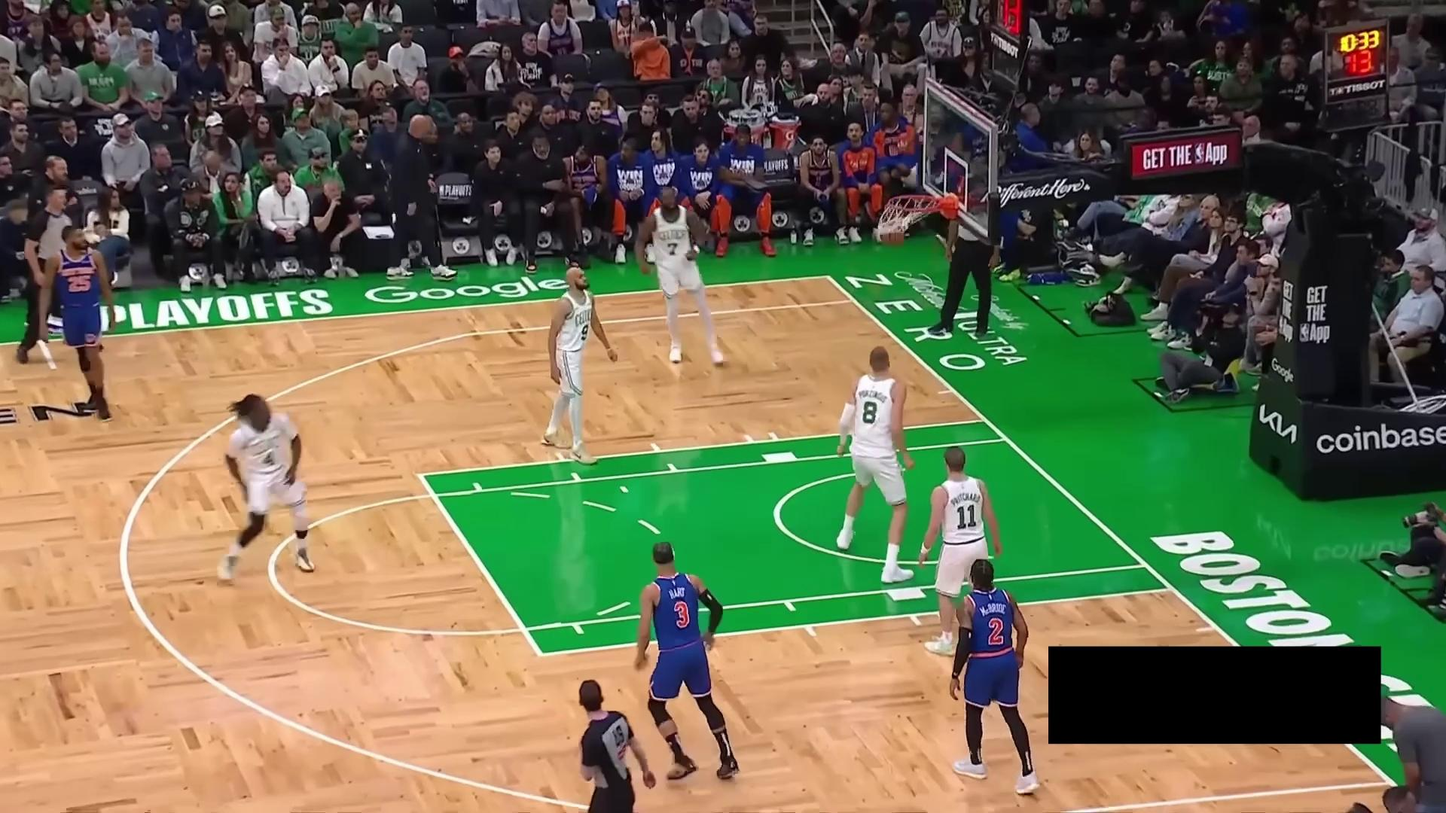ball: (877, 223, 905, 247)
number: (957, 503, 975, 529), (67, 273, 91, 292), (674, 600, 689, 628), (989, 616, 1004, 644), (862, 400, 878, 425), (261, 447, 276, 467), (579, 322, 590, 342), (667, 241, 679, 257)
player: (633, 540, 739, 782), (948, 558, 1040, 796), (835, 345, 916, 583), (217, 393, 317, 584), (43, 221, 119, 421), (642, 185, 725, 366), (930, 445, 1000, 657), (541, 260, 616, 454)
referee: (13, 186, 75, 364), (575, 677, 654, 813), (930, 193, 1000, 340)
rim: (886, 193, 942, 214)
